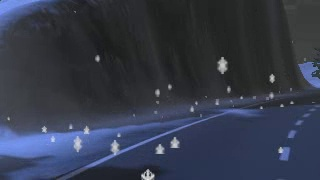Lane: (54, 91, 319, 179)
